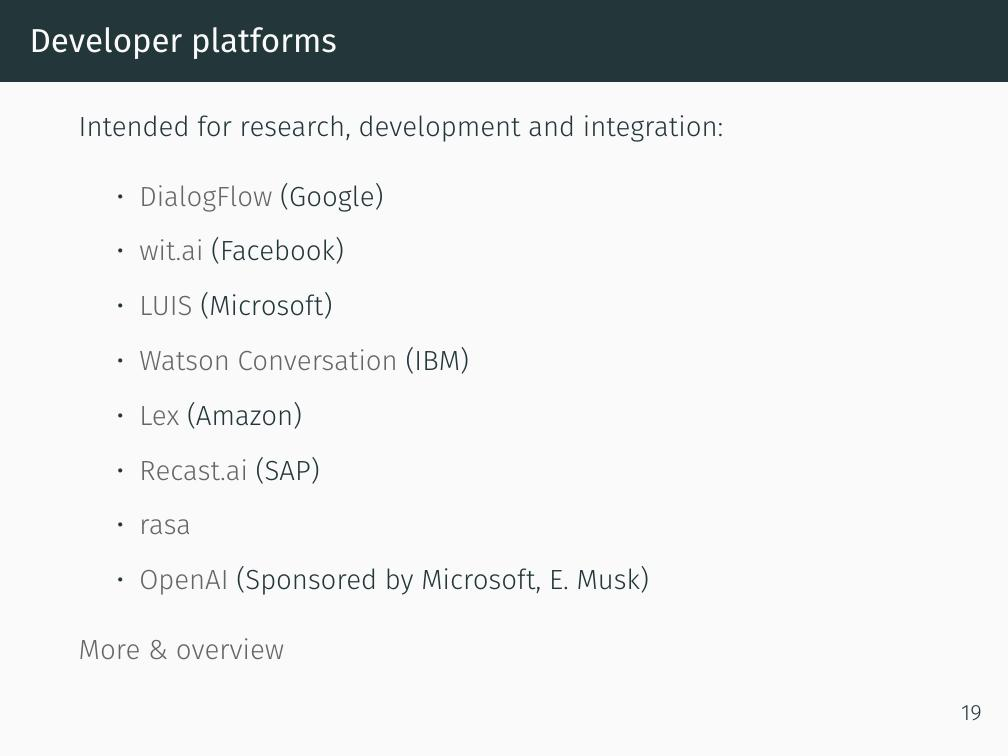Title: (25, 18, 340, 61)
